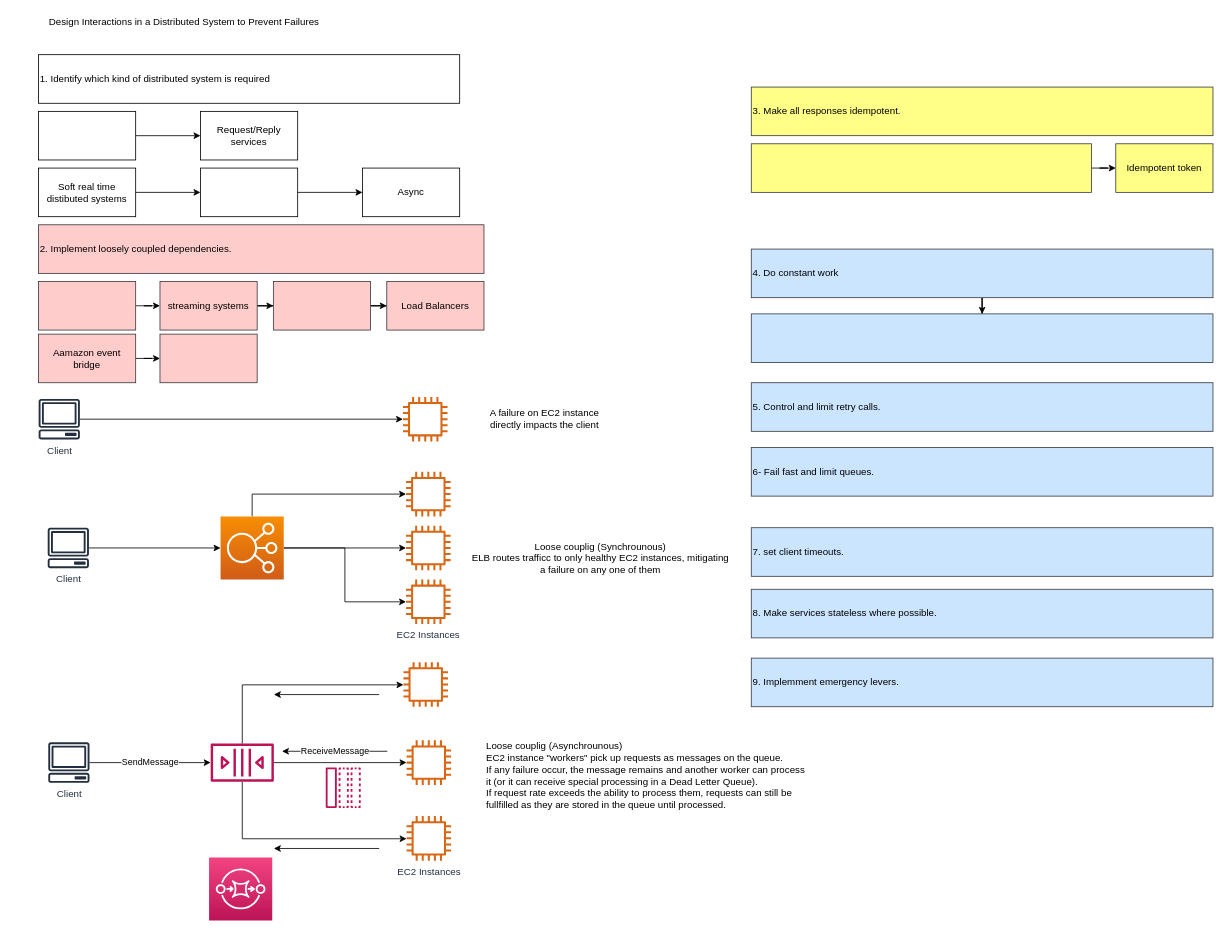
This 1227x951 diagram has some shape labels left out. Each missing label, with the centre of its shape:
Amazon Simple Notification Service: the point at 208,358
Amazon Simple Queue Service: the point at 240,889
An idempotent service promises that each request is completed exactly once: the point at 920,167
Batch: the point at 249,192
EC2 Instance: the point at 425,418
Hard real time distibuted systems: the point at 87,135
Limitación controlada de las solicitudes (): the point at 981,337
Messsage: the point at 343,787
Queuing systems: the point at 87,305
Workflows: the point at 322,305
